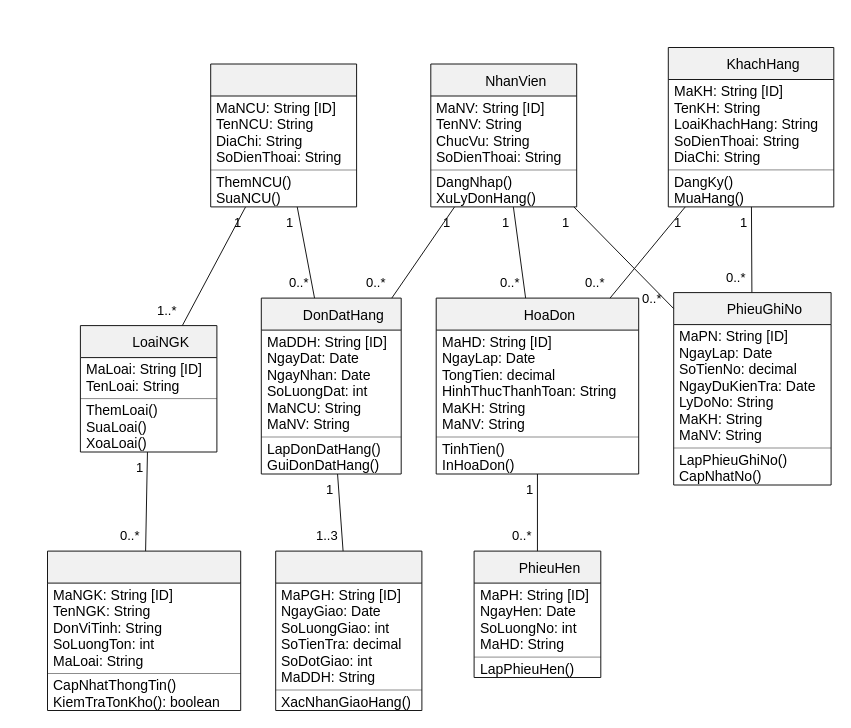
The diagram is 851 pixels wide and 728 high, and some of its shapes have lost their labels. The box of each missing label's shape, as (x1, y1, x2, y2) in pixels:
NhaCungUng: (210, 63, 357, 207)
NuocGiaiKhat: (46, 550, 241, 710)
PhieuGiaoHang: (275, 550, 422, 710)
